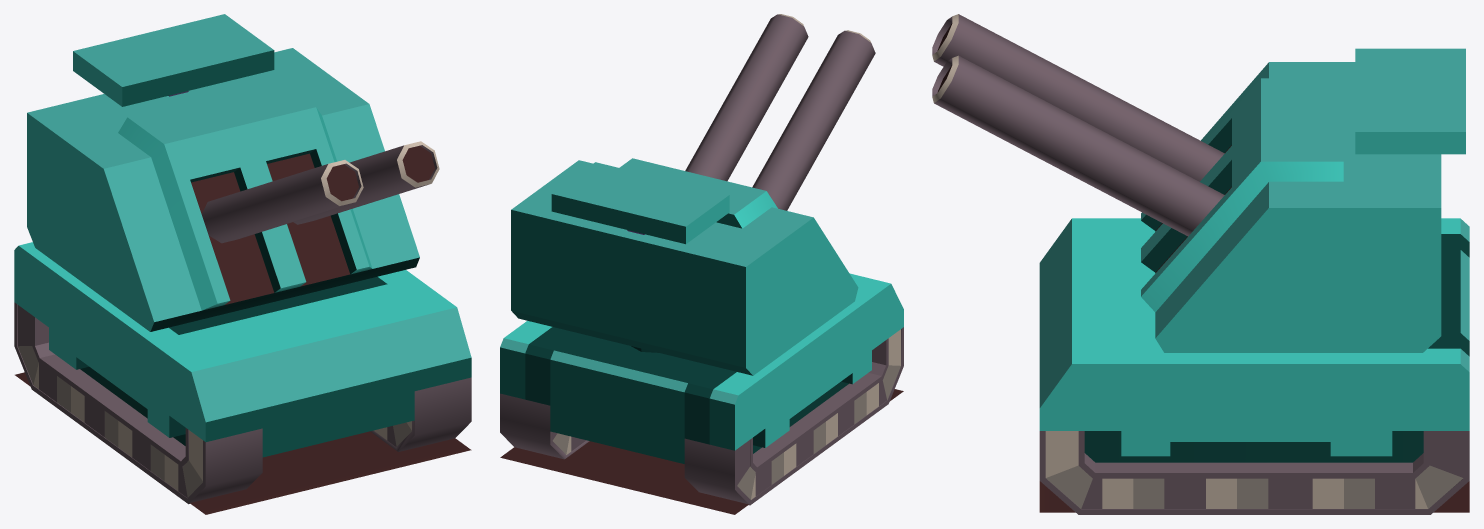
Rendered from AntiAirMesh.TealGalaxy.glb.
The picture shows the model from 3 angles, left to right: view 1: azimuth 30°, elevation 25°; view 2: azimuth 150°, elevation 25°; view 3: azimuth 270°, elevation 25°; orthographic projection. The views are drawn at different scales.
Parts seen in each view (by area): view 1: AntiAirMesh.TealGalaxy; view 2: AntiAirMesh.TealGalaxy; view 3: AntiAirMesh.TealGalaxy.
Part boxes in pixels (x1=…): AntiAirMesh.TealGalaxy: x1=14, y1=14, x2=471, y2=514; AntiAirMesh.TealGalaxy: x1=500, y1=14, x2=903, y2=514; AntiAirMesh.TealGalaxy: x1=932, y1=14, x2=1469, y2=514.
Bounding box in the file's own units: 1.4 × 1.8 × 2.18.
Materials: 1 (1 with a texture image).
